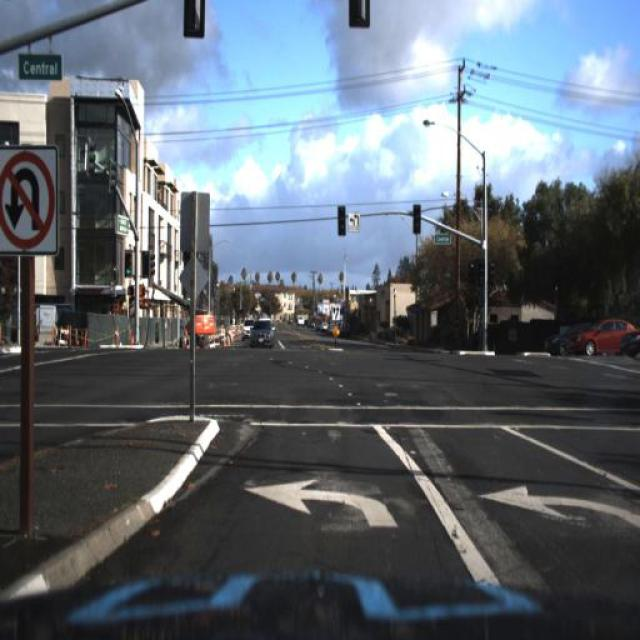car: (574, 320, 635, 352), (548, 324, 584, 354), (250, 323, 272, 347), (240, 316, 254, 346), (294, 308, 307, 331)
trafficLight-Red: (335, 200, 350, 240), (125, 248, 134, 278)
trafficLight-RedLeft: (411, 200, 423, 242), (473, 246, 486, 280), (338, 203, 347, 236)
